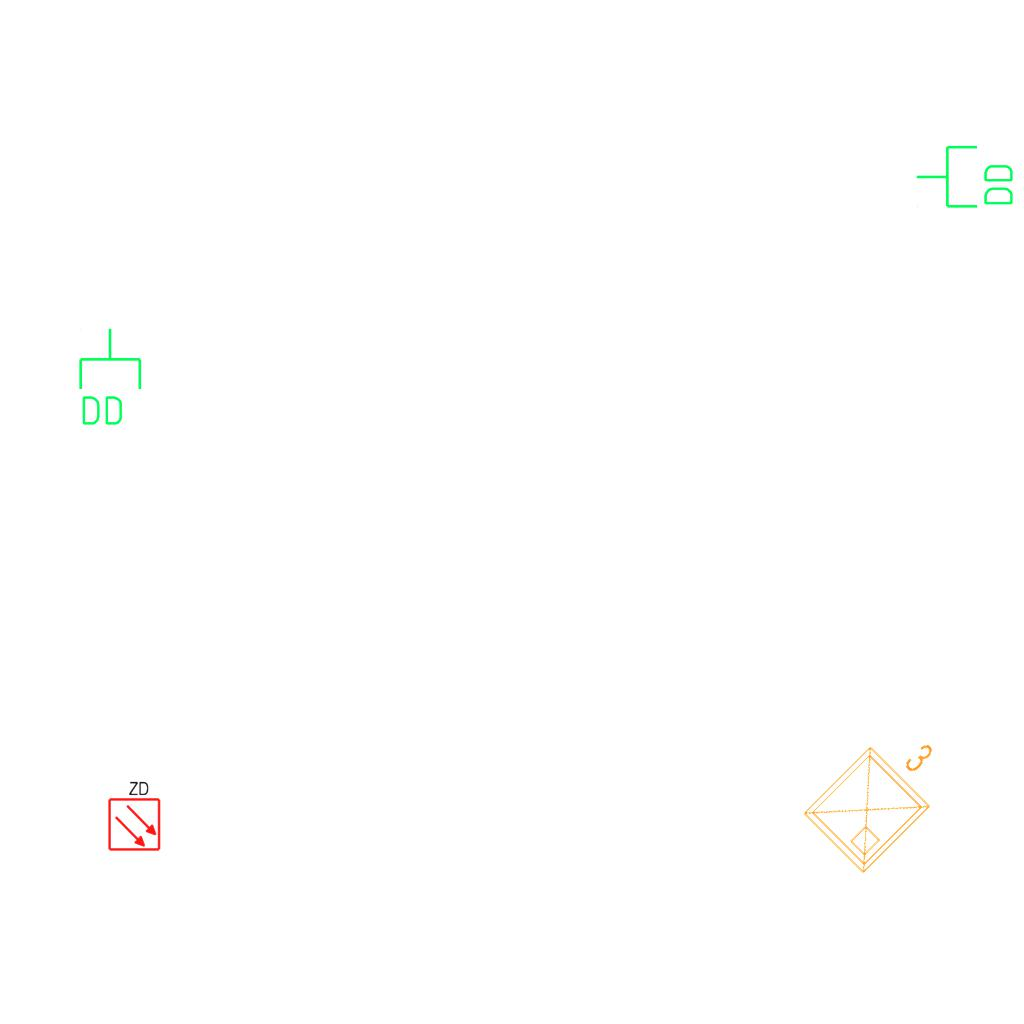Datenanschluss_zweifach: (914, 143, 1017, 212), (75, 326, 144, 429)
Einbaudownlights_LED_Konferenzraeume: (790, 704, 970, 884)
ZD_Melder_in_Zwischendecke_mit_Revisionsoeffnung_mind_40_x_40_cm: (105, 778, 162, 852)
